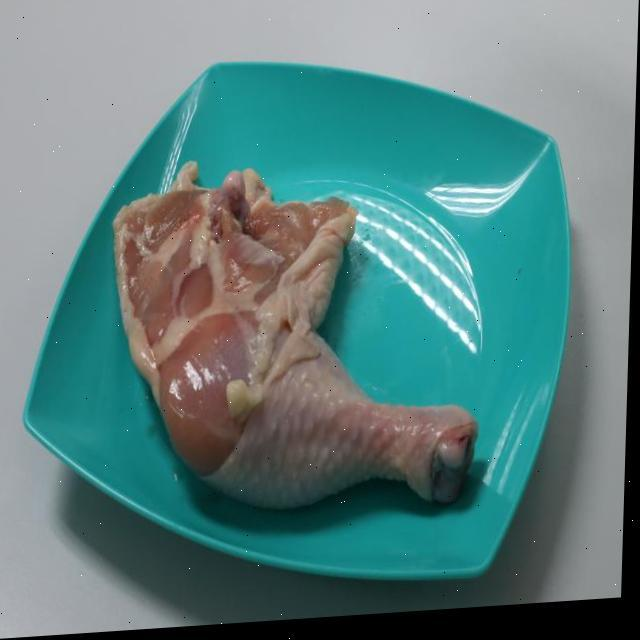quater: (108, 152, 490, 532)
